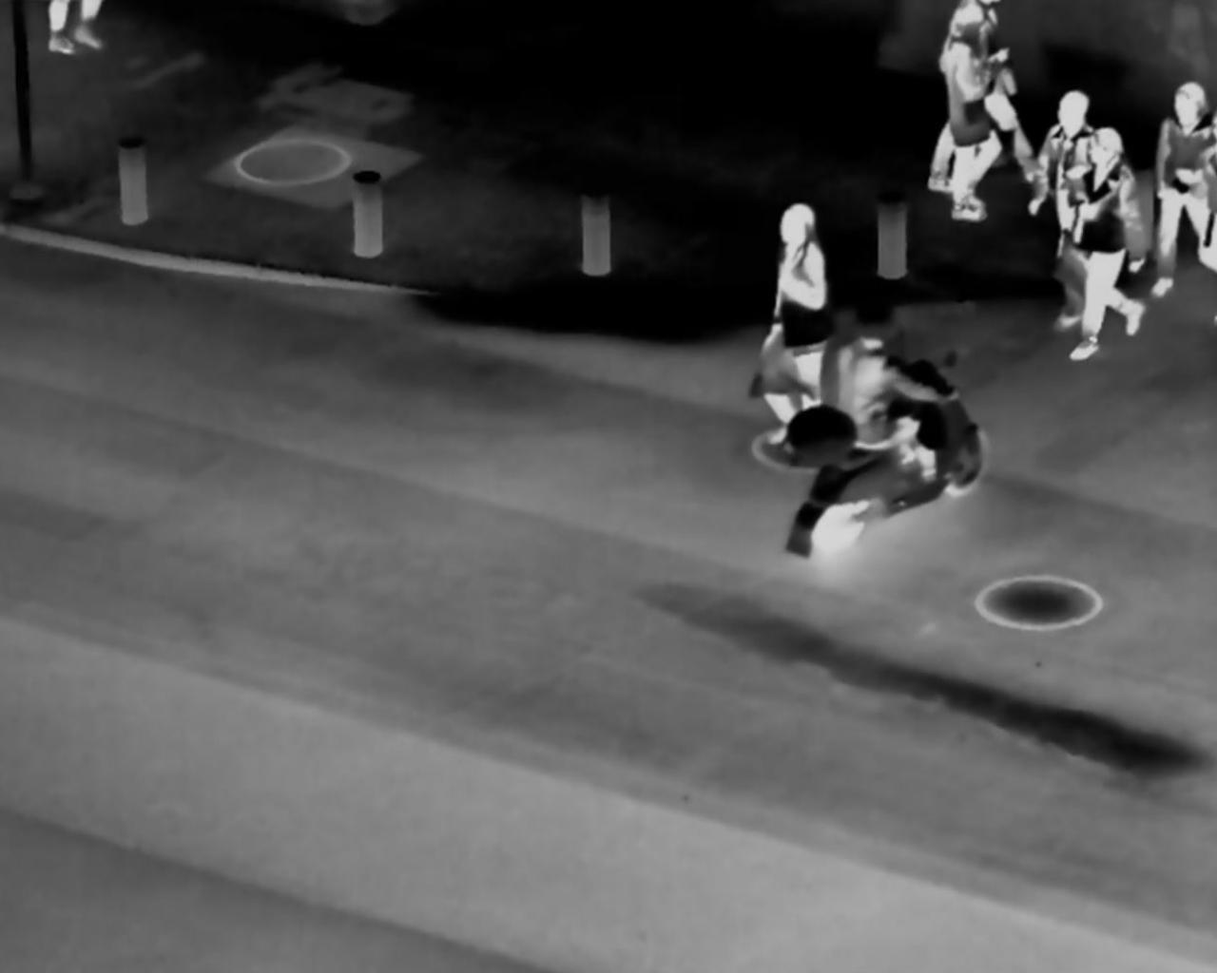person: (823, 300, 939, 511), (754, 188, 834, 432), (1066, 113, 1145, 359), (1031, 73, 1100, 308), (941, 11, 1007, 230), (1151, 77, 1217, 285)
